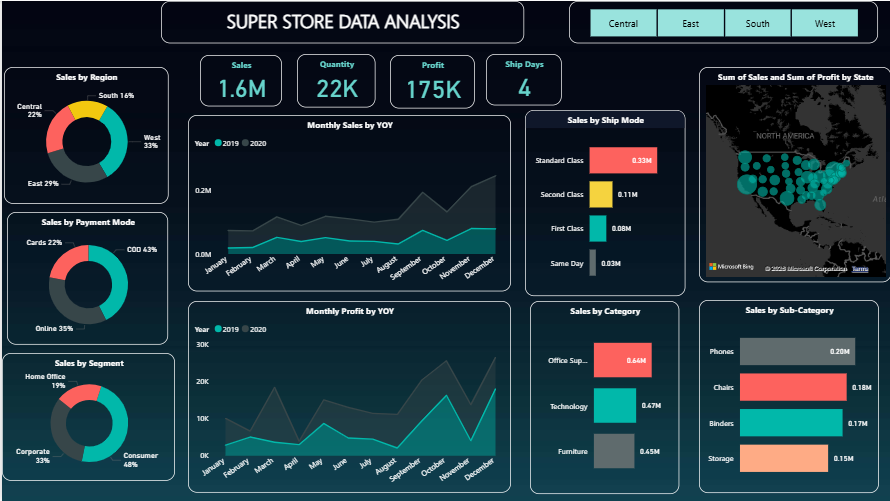

Layout of this report page (visuals, bound fields, positions):
{"tool":"powerbi","page":{"name":"Page 1","canvas":[1280,720],"ordinal":0},"visuals":[{"type":"clusteredBarChart","title":"Sales by Ship Mode","fields":{"Category":["SuperStore_Sales_Dataset.Ship Mode"],"Y":["Sum(SuperStore_Sales_Dataset.Sales)"]},"box":[752.6,157.3,231,267.9],"z":0},{"type":"clusteredBarChart","title":"Sales by Category","fields":{"Category":["SuperStore_Sales_Dataset.Category"],"Y":["Sum(SuperStore_Sales_Dataset.Sales)"]},"box":[759.7,432.3,215.4,277.8],"z":1000},{"type":"clusteredBarChart","title":"Sales by Sub-Category","fields":{"Category":["SuperStore_Sales_Dataset.Sub-Category"],"Y":["Sum(SuperStore_Sales_Dataset.Sales)"]},"box":[1003.5,430.9,259.4,277.8],"z":2000},{"type":"stackedAreaChart","title":"Monthly Sales by YOY","fields":{"Category":["SuperStore_Sales_Dataset.Order Date.Variation.Date Hierarchy.Month"],"Series":["SuperStore_Sales_Dataset.Order Date.Variation.Date Hierarchy.Year"],"Y":["Sum(SuperStore_Sales_Dataset.Sales)"]},"box":[267.9,164.4,464.9,253.7],"z":3000},{"type":"stackedAreaChart","title":"Monthly Profit by YOY","fields":{"Category":["SuperStore_Sales_Dataset.Order Date.Variation.Date Hierarchy.Month"],"Series":["SuperStore_Sales_Dataset.Order Date.Variation.Date Hierarchy.Year"],"Y":["Sum(SuperStore_Sales_Dataset.Profit)"]},"box":[267.9,432.3,464.9,276.4],"z":4000},{"type":"map","fields":{"Category":["SuperStore_Sales_Dataset.State"],"Size":["Sum(SuperStore_Sales_Dataset.Sales)"]},"box":[1003.2,95.6,276.8,310.4],"z":5000},{"type":"donutChart","title":"Sales by Segment","fields":{"Category":["SuperStore_Sales_Dataset.Segment"],"Y":["Sum(SuperStore_Sales_Dataset.Sales)"]},"box":[0,507.4,249.4,184.3],"z":6000},{"type":"donutChart","title":"Sales by Payment Mode","fields":{"Category":["SuperStore_Sales_Dataset.Payment Mode"],"Y":["Sum(SuperStore_Sales_Dataset.Sales)"]},"box":[7.1,303.3,232.4,191.3],"z":7000},{"type":"slicer","fields":{"Values":["SuperStore_Sales_Dataset.Region"]},"box":[817,0,445.1,60.8],"z":8000},{"type":"textbox","box":[229.6,0,523,60.9],"z":9000},{"type":"card","title":"Sales","fields":{"Values":["Sum(SuperStore_Sales_Dataset.Sales)"]},"box":[284.9,78,117.6,73.7],"z":10000},{"type":"card","title":"Ship Days","fields":{"Values":["Avg(SuperStore_Sales_Dataset.AvgDelivery)"]},"box":[697.3,76.5,109.1,73.7],"z":11000},{"type":"card","title":"Quantity","fields":{"Values":["Sum(SuperStore_Sales_Dataset.Quantity)"]},"box":[425.2,76.5,113.4,76.5],"z":12000},{"type":"card","title":"Profit","fields":{"Values":["Sum(SuperStore_Sales_Dataset.Profit)"]},"box":[558.4,78,121.9,76.5],"z":13000},{"type":"donutChart","title":"Sales by Region","fields":{"Category":["SuperStore_Sales_Dataset.Region"],"Y":["Sum(SuperStore_Sales_Dataset.Sales)"]},"box":[2.8,95,236.7,197],"z":14000}]}

Visuals, with their boxes in screenshot pixels (x1, y1, x2, y2), scaled from the page's 1280x720 canvas onto the 890x501 screenshot:
"Sales by Ship Mode" clusteredBarChart: locate(523, 109, 684, 296)
"Sales by Category" clusteredBarChart: locate(528, 301, 678, 494)
"Sales by Sub-Category" clusteredBarChart: locate(698, 300, 878, 493)
"Monthly Sales by YOY" stackedAreaChart: locate(186, 114, 510, 291)
"Monthly Profit by YOY" stackedAreaChart: locate(186, 301, 510, 493)
map - SuperStore_Sales_Dataset.State x Sum(SuperStore_Sales_Dataset.Sales): locate(698, 67, 889, 283)
"Sales by Segment" donutChart: locate(0, 353, 173, 481)
"Sales by Payment Mode" donutChart: locate(5, 211, 167, 344)
slicer - SuperStore_Sales_Dataset.Region: locate(568, 0, 878, 42)
textbox: locate(160, 0, 523, 42)
"Sales" card: locate(198, 54, 280, 106)
"Ship Days" card: locate(485, 53, 561, 105)
"Quantity" card: locate(296, 53, 374, 106)
"Profit" card: locate(388, 54, 473, 108)
"Sales by Region" donutChart: locate(2, 66, 167, 203)
